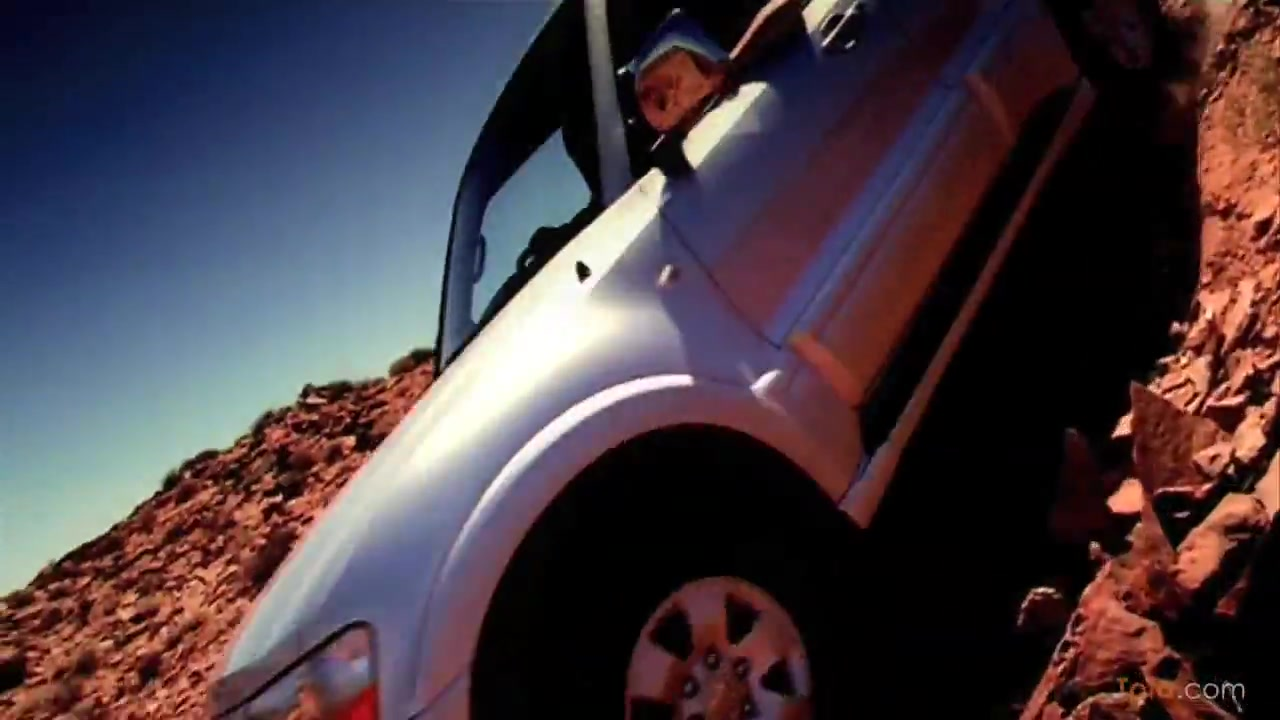car: (206, 1, 1173, 719)
